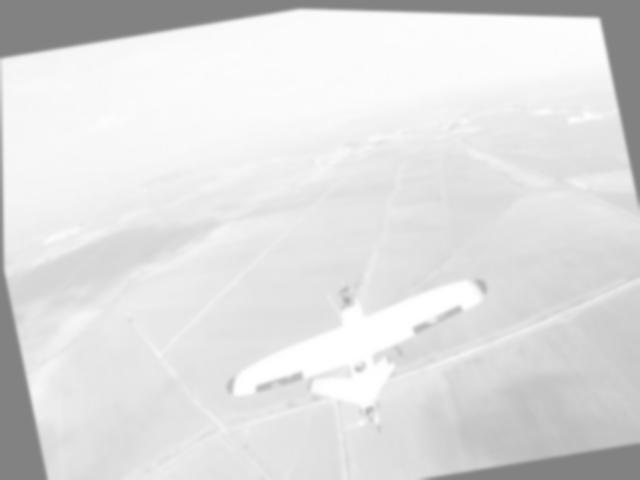hedef: (196, 225, 520, 471)
